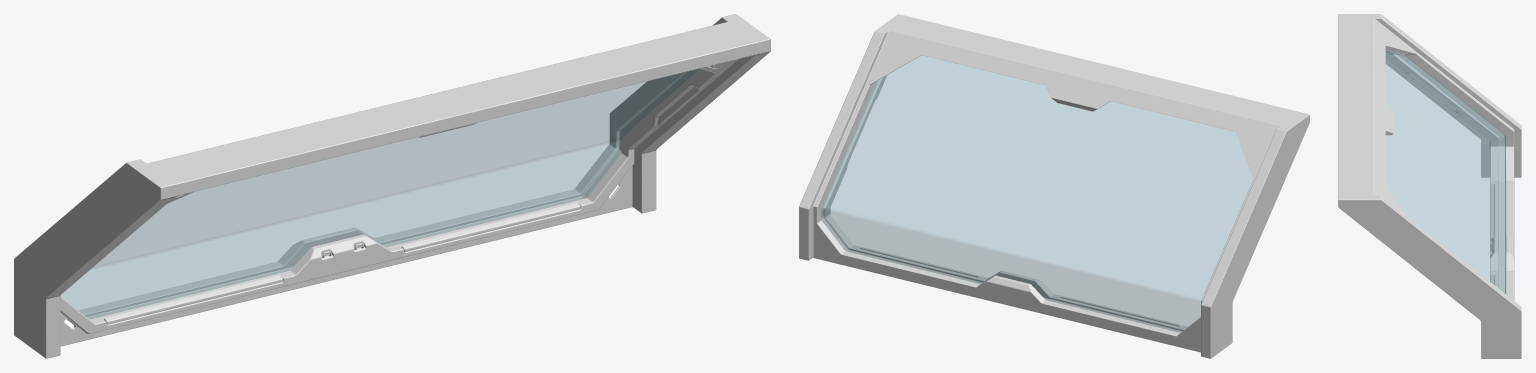
The model's file is SlopedWindowA20x8.glb.
3 renders of one model, left to right at view 1: azimuth 30°, elevation 25°; view 2: azimuth 150°, elevation 25°; view 3: azimuth 270°, elevation 25°, orthographic. The views are drawn at different scales.
Visible parts, largest first — view 1: SlopedWindowA20x8; view 2: SlopedWindowA20x8; view 3: SlopedWindowA20x8.
Part boxes in pixels (x1,y1,x2,y2): SlopedWindowA20x8: (14, 14, 770, 358); SlopedWindowA20x8: (799, 14, 1309, 358); SlopedWindowA20x8: (1338, 14, 1521, 358).
Size of what is drawn, in the model's own units: 20 by 8 by 8.35.
